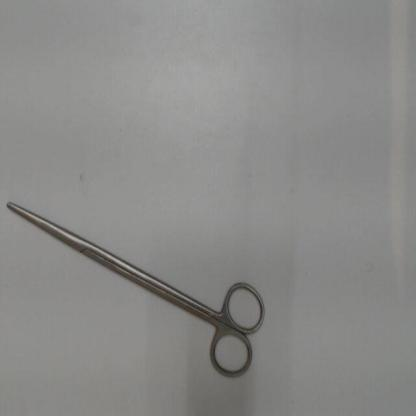9 Metzenbaum Scissors: (5, 197, 272, 385)
